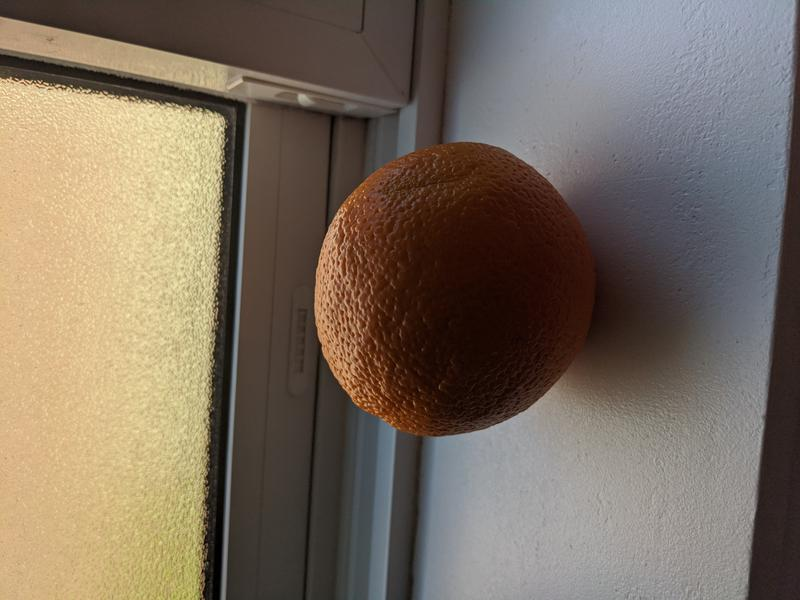orange: (312, 141, 598, 439)
